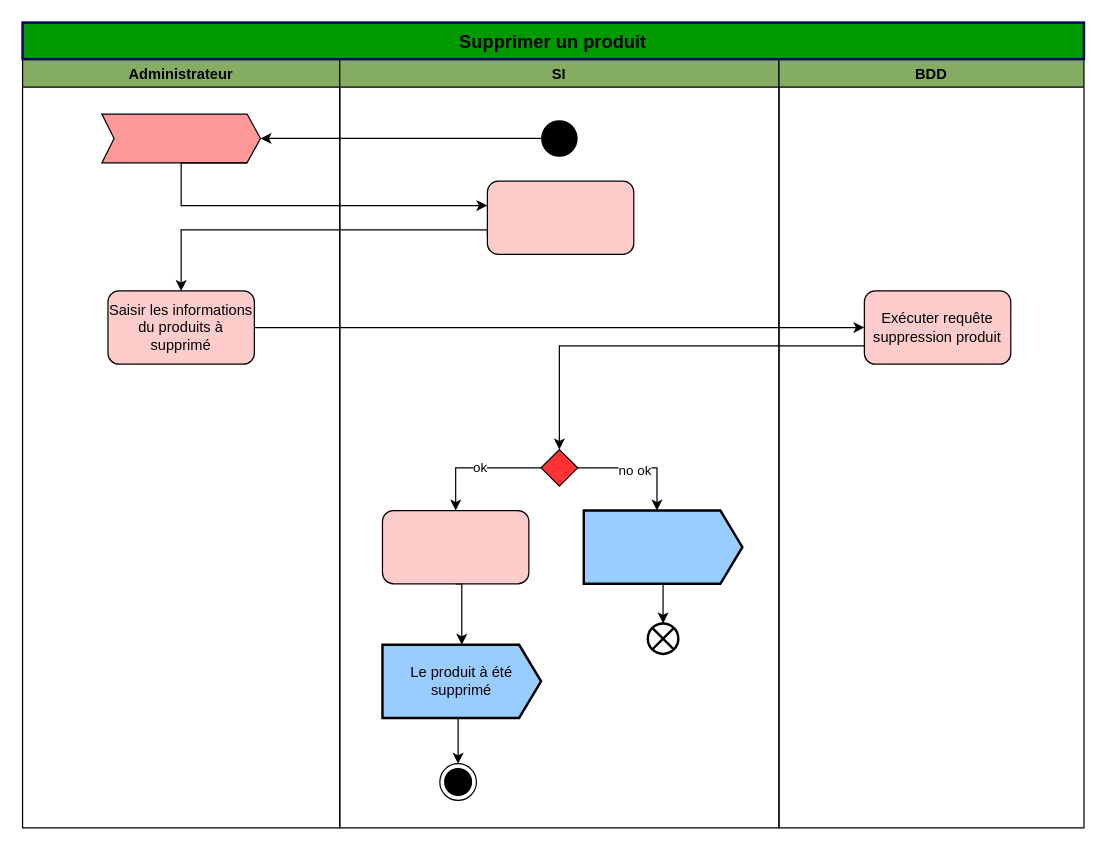
Image size: 1105x849. Some labels were removed from this diagram. Here are the shapes that lost their labels. From the top down, the centre of each, then its label:
At pixel 180 138: "Cliquer sur Supprimer un produit".
At pixel 560 217: "Demander informations du produit à supprimé".
At pixel 455 546: "Retirer le produit du catalogue".
At pixel 662 546: "MSG: Le produit n'a pas pu être supprimé".
